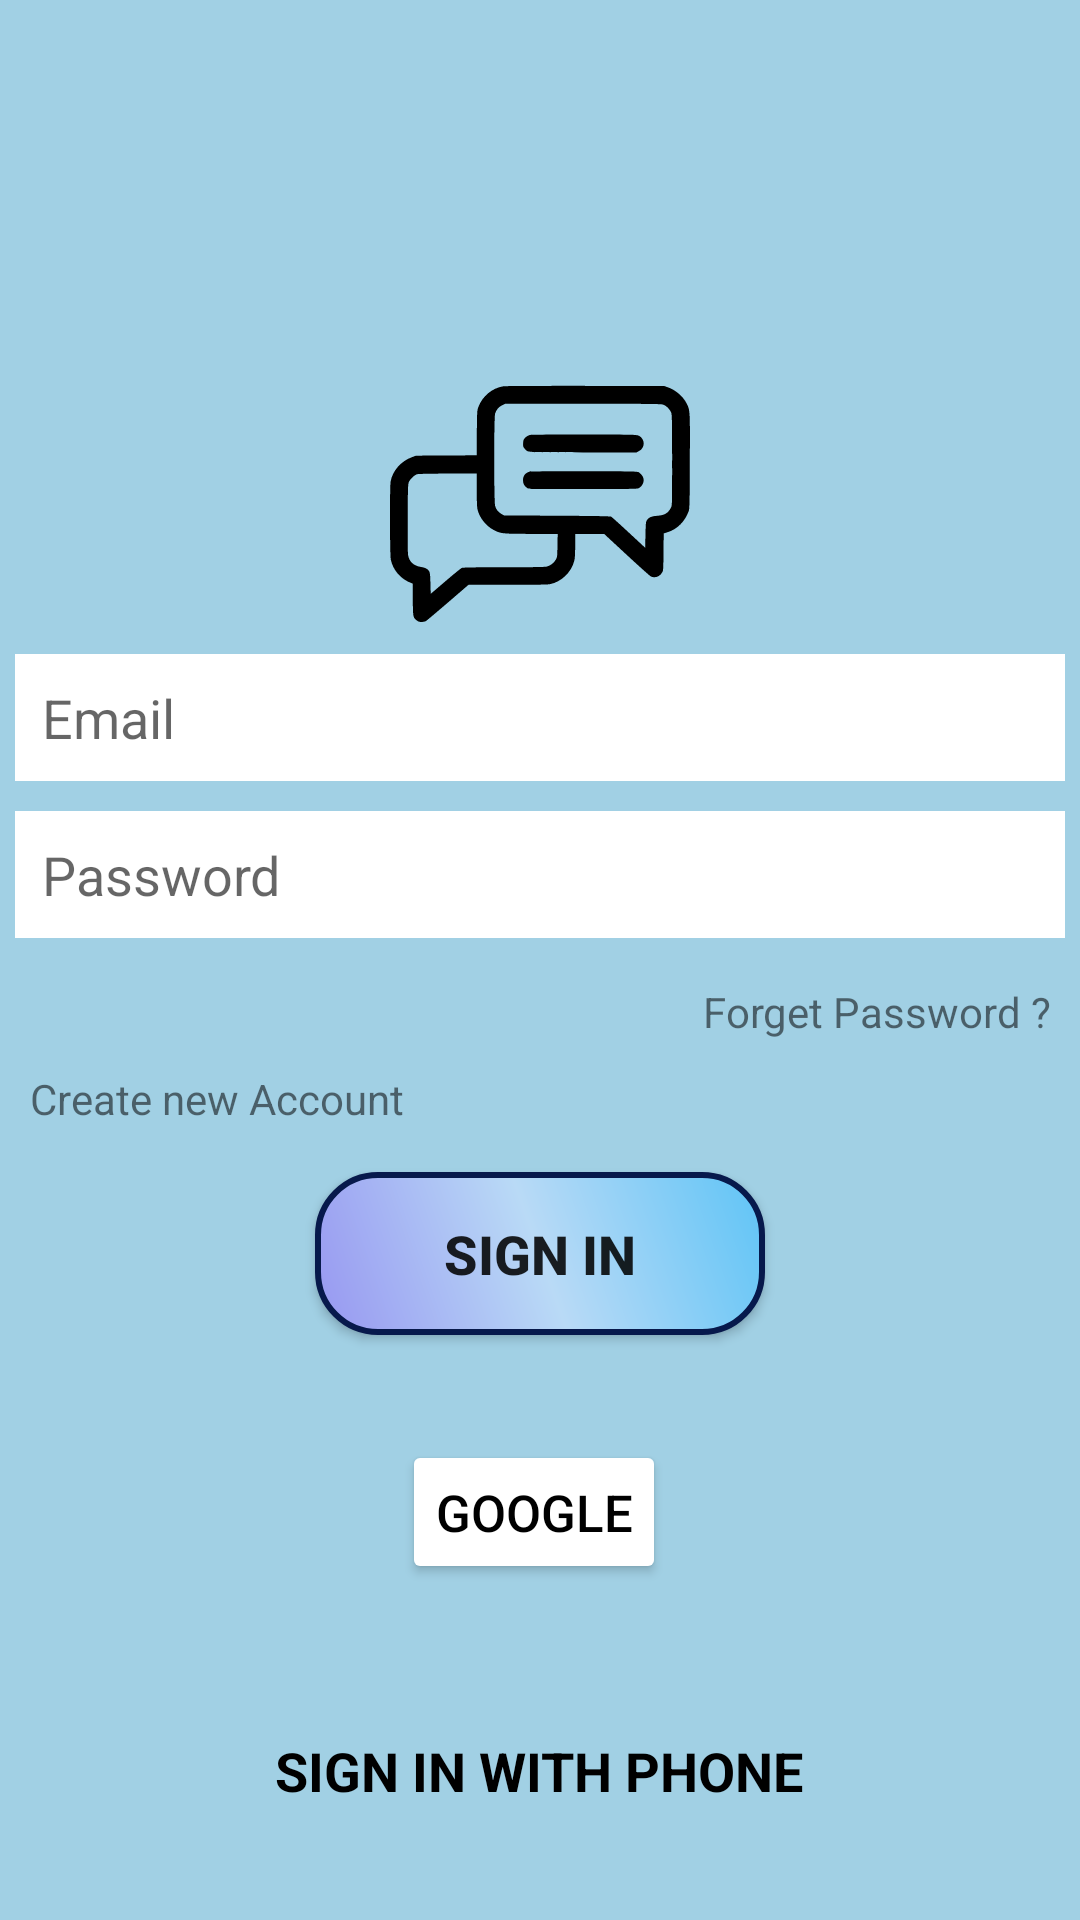

Icons on this 1080×1920 Android screen, each with its box as (x1, y1, x2, y2):
chat: (390, 385, 690, 622)
